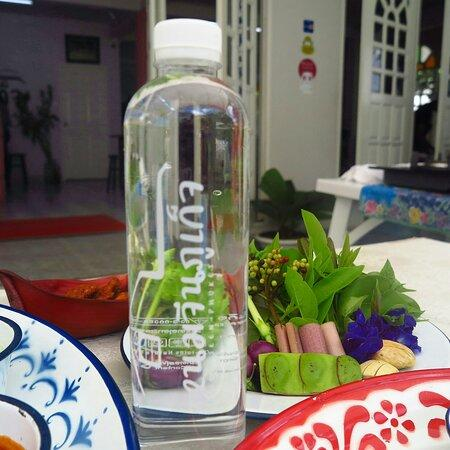bottle: (116, 12, 256, 450)
